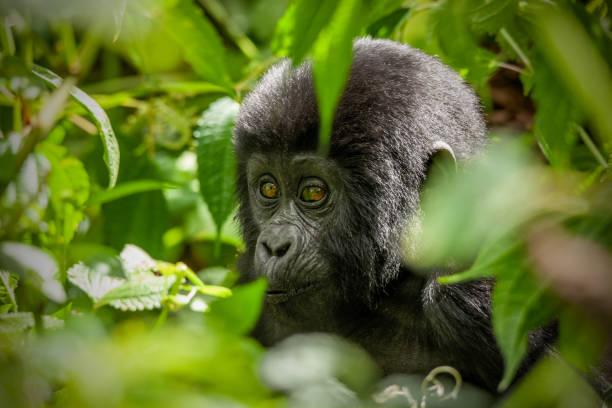goriile_montagne: (218, 41, 541, 389)
